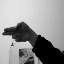h: (1, 20, 30, 43)
